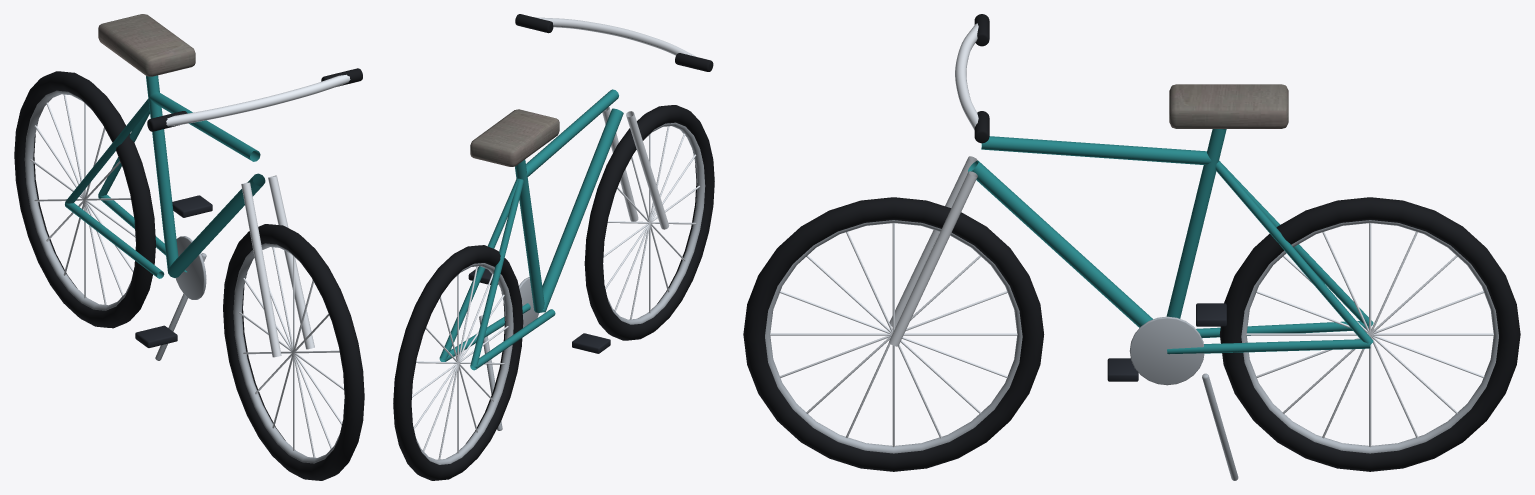
Rendered from bicycle-817f32877dda.glb.
The picture shows the model from 3 angles, left to right: view 1: azimuth 30°, elevation 25°; view 2: azimuth 150°, elevation 25°; view 3: azimuth 270°, elevation 25°; orthographic projection. The views are drawn at different scales.
Visible parts, largest first — view 1: Grip_-0.26, Fork_L, Chain_Stay_L, Stand_Rod, Saddle, Pedal_L; view 2: Grip_-0.26, Chain_Stay_L, Fork_L, Stand_Rod, Saddle, Pedal_L; view 3: Grip_-0.26, Chain_Stay_L, Fork_L, Stand_Rod, Saddle, Pedal_L.
Boxes of the visible parts, <box> form: Grip_-0.26: <box>14,68,364,480</box>; Fork_L: <box>30,74,350,457</box>; Chain_Stay_L: <box>65,75,265,278</box>; Stand_Rod: <box>24,90,339,463</box>; Saddle: <box>98,14,195,76</box>; Pedal_L: <box>135,195,212,347</box>; Grip_-0.26: <box>393,14,714,480</box>; Chain_Stay_L: <box>439,89,623,370</box>; Fork_L: <box>412,17,700,459</box>; Stand_Rod: <box>416,122,705,464</box>; Saddle: <box>470,109,559,166</box>; Pedal_L: <box>468,267,610,353</box>; Grip_-0.26: <box>743,14,1520,471</box>; Chain_Stay_L: <box>968,129,1373,354</box>; Fork_L: <box>770,23,1493,447</box>; Stand_Rod: <box>765,220,1498,480</box>; Saddle: <box>1169,84,1288,128</box>; Pedal_L: <box>1107,303,1226,381</box>.
Bounding box in the file's own units: 0.63 × 1.01 × 1.76.
6 materials, 1 textured.
